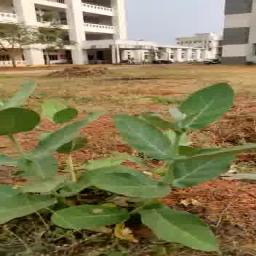Calotropis: (5, 80, 229, 239)
